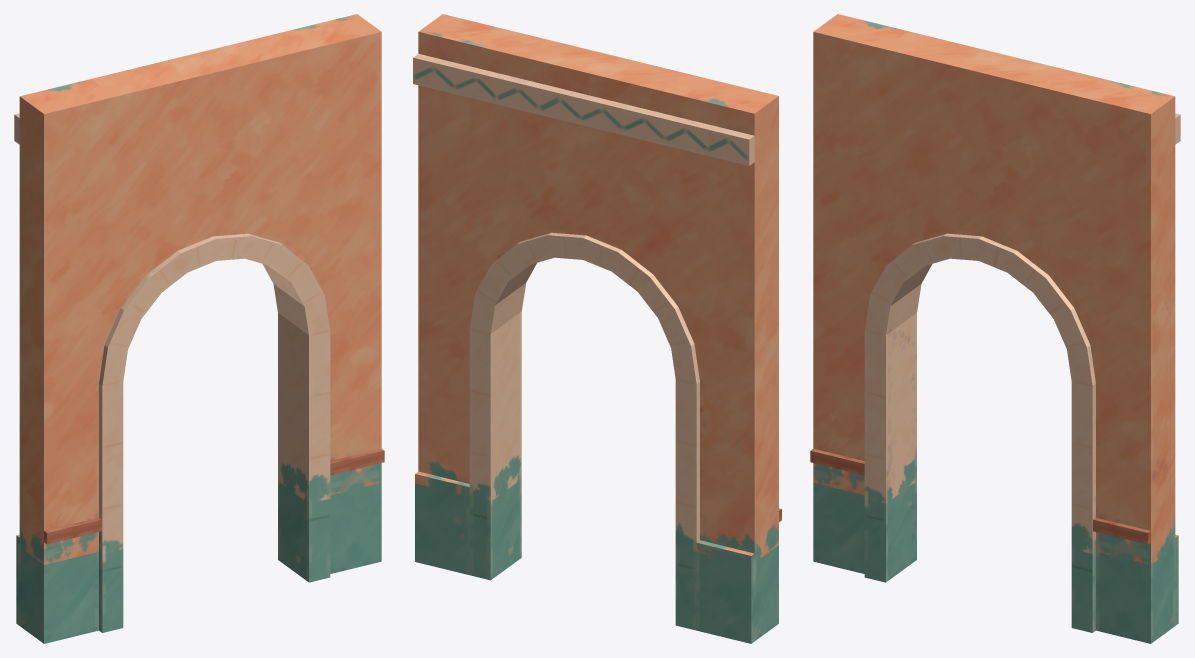
The model's file is wall2_door.bundle.fbx.
3 renders of one model, left to right at view 1: azimuth 30°, elevation 25°; view 2: azimuth 150°, elevation 25°; view 3: azimuth 330°, elevation 25°, orthographic.
Parts seen in each view (by area): view 1: wall2_door, wall2_door_s10, wall2_door_s06, wall2_door_s04, wall2_door_s08, wall2_door_s03, wall2_door_s09, wall2_door_s02, wall2_door_s05, wall2_door_s07, wall2_door_s01; view 2: wall2_door, wall2_door_s04, wall2_door_s02, wall2_door_s06, wall2_door_s03, wall2_door_s08, wall2_door_s09, wall2_door_s10, wall2_door_s05, wall2_door_s01, wall2_door_s07; view 3: wall2_door, wall2_door_s06, wall2_door_s04, wall2_door_s02, wall2_door_s08, wall2_door_s05, wall2_door_s09, wall2_door_s10, wall2_door_s03, wall2_door_s01, wall2_door_s07, wall2_door_s00.
Part boxes in pixels (bbox=[...]): wall2_door: bbox=[14, 14, 384, 643]; wall2_door_s10: bbox=[277, 306, 381, 581]; wall2_door_s06: bbox=[128, 49, 297, 259]; wall2_door_s04: bbox=[218, 14, 381, 167]; wall2_door_s08: bbox=[53, 171, 233, 307]; wall2_door_s03: bbox=[14, 66, 160, 188]; wall2_door_s09: bbox=[33, 293, 160, 482]; wall2_door_s02: bbox=[259, 146, 381, 320]; wall2_door_s05: bbox=[19, 476, 289, 643]; wall2_door_s07: bbox=[14, 136, 102, 315]; wall2_door_s01: bbox=[274, 286, 381, 398]; wall2_door: bbox=[413, 14, 781, 643]; wall2_door_s04: bbox=[413, 14, 578, 163]; wall2_door_s02: bbox=[418, 137, 546, 306]; wall2_door_s06: bbox=[505, 47, 660, 235]; wall2_door_s03: bbox=[629, 67, 778, 166]; wall2_door_s08: bbox=[542, 148, 738, 313]; wall2_door_s09: bbox=[650, 297, 778, 471]; wall2_door_s10: bbox=[418, 292, 524, 579]; wall2_door_s05: bbox=[489, 462, 778, 639]; wall2_door_s01: bbox=[418, 273, 499, 418]; wall2_door_s07: bbox=[679, 161, 778, 324]; wall2_door: bbox=[810, 14, 1180, 643]; wall2_door_s06: bbox=[897, 48, 1069, 280]; wall2_door_s04: bbox=[1014, 68, 1179, 225]; wall2_door_s02: bbox=[1019, 204, 1175, 374]; wall2_door_s08: bbox=[822, 124, 996, 267]; wall2_door_s05: bbox=[813, 406, 916, 581]; wall2_door_s09: bbox=[813, 230, 926, 417]; wall2_door_s10: bbox=[1069, 364, 1175, 643]; wall2_door_s03: bbox=[813, 14, 945, 135]; wall2_door_s01: bbox=[1091, 338, 1175, 480]; wall2_door_s07: bbox=[813, 107, 872, 231]; wall2_door_s00: bbox=[863, 390, 914, 440].
Size of the model in its own units: 8 by 12 by 1.36.
1 material, 1 textured.
